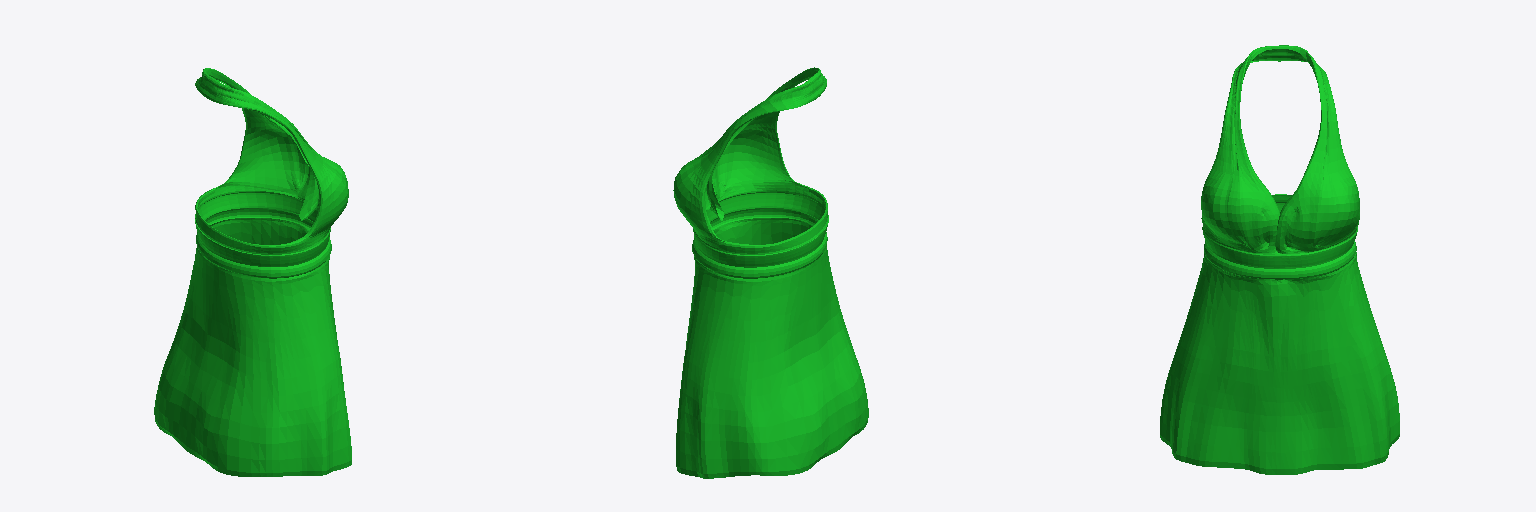
The model's file is duanqun4.obj.
3 views of the same model, side by side, from view 1: azimuth 30°, elevation 25°; view 2: azimuth 150°, elevation 25°; view 3: azimuth 270°, elevation 25° (orthographic).
Parts seen in each view (by area): view 1: file.002; view 2: file.002; view 3: file.002.
Boxes of the visible parts, <box> form: file.002: <box>154,68,351,476</box>; file.002: <box>673,67,868,478</box>; file.002: <box>1160,45,1399,474</box>.
Size of the model in its own units: 2.47 by 6.25 by 3.61.